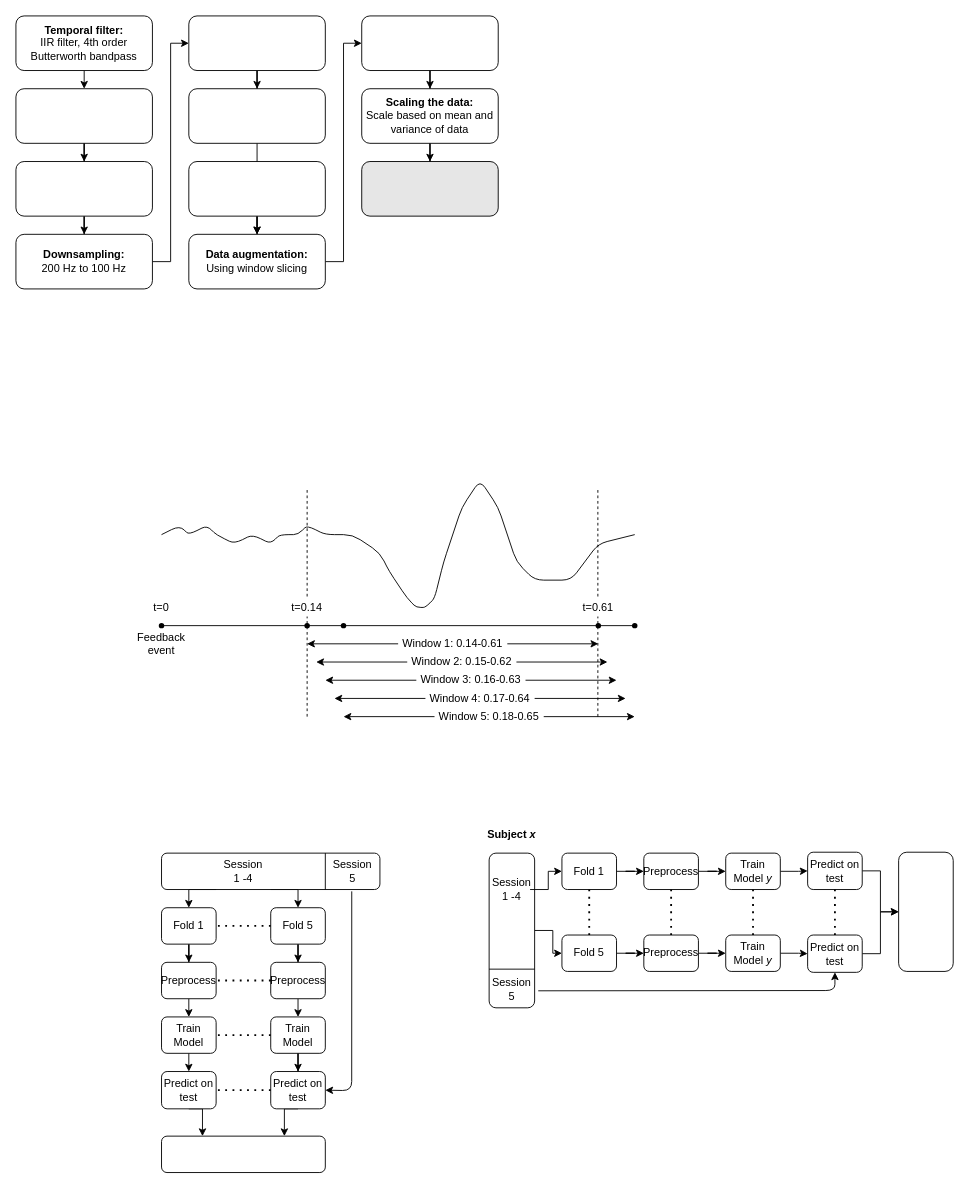
The diagram is 969 pixels wide and 1188 high, and some of its shapes have lost their labels. The box of each missing label's shape, as (x1, y1, x2, y2) in pixels:
Average measures from 5 folds: (161, 1135, 325, 1173)
Average measures from 5 folds for subject x , model y: (898, 851, 953, 971)
Baseline correction: -0.25 sec to 0 sec relative to feedback time: (15, 161, 152, 216)
Channel selection: Fz, Cz, P3, Pz, P4, PO7, PO8: (188, 15, 325, 71)
Classification model: (361, 161, 498, 216)
Create epochs/trials: -0.25 sec to + 1 sec relative to feedback time: (15, 88, 152, 143)
Data split: Training, validation and test sets for for each subject: (188, 161, 325, 216)
ErrP event slicing: 0.14 sec to 0.65 sec after feedback event: (188, 88, 325, 143)
Spartial filter: Xdawn with 5 components: (361, 15, 498, 71)
t=0.18: (324, 607, 362, 644)
t=0.65: (616, 607, 653, 644)
